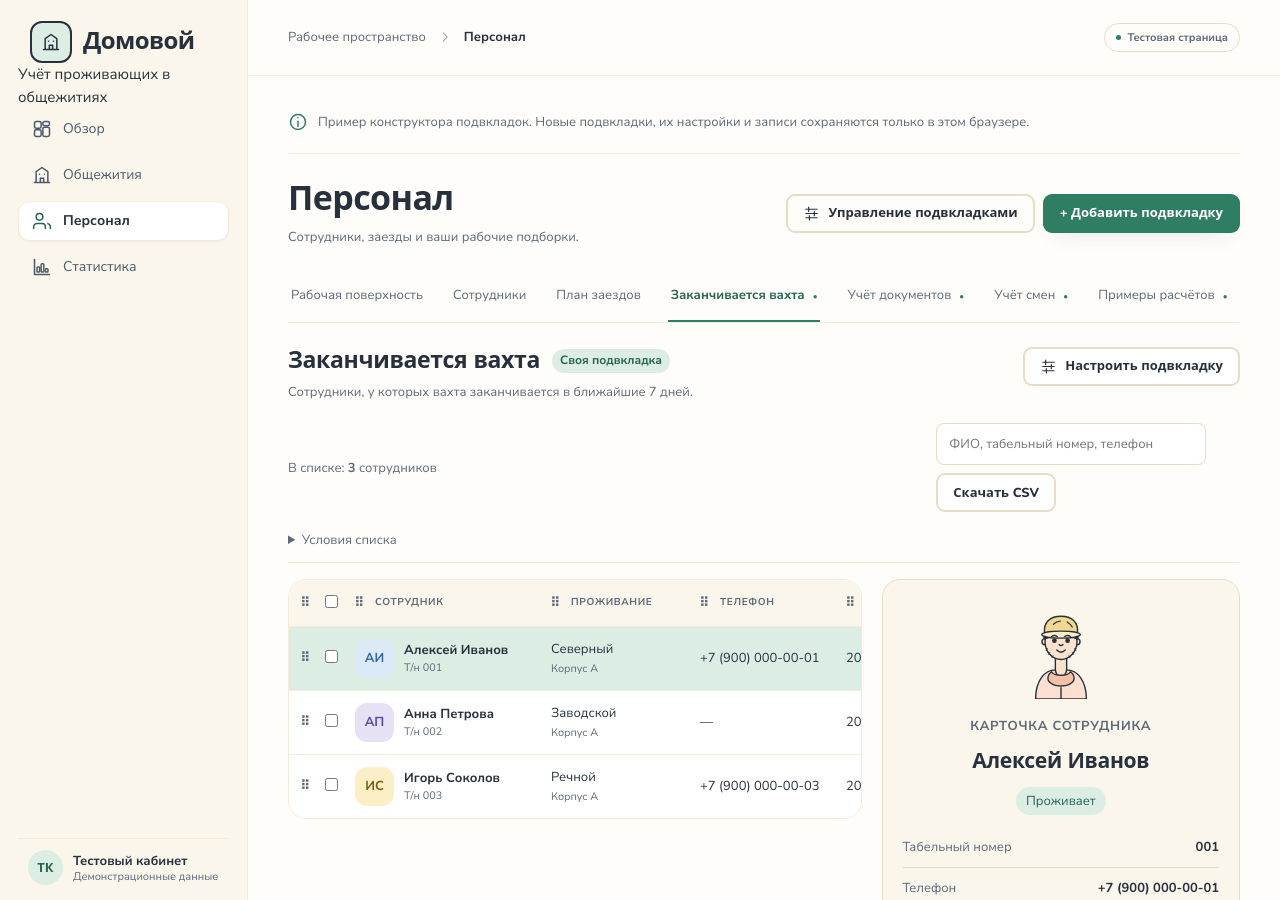
Конструктор подвкладок персонала › не допускает одинаковые имена и сохраняет незакрытый черновик при ошибке
The image size is (1280, 900).
Click the button "+ Добавить подвкладку" at (1141,213), box [1043,194,1240,233]
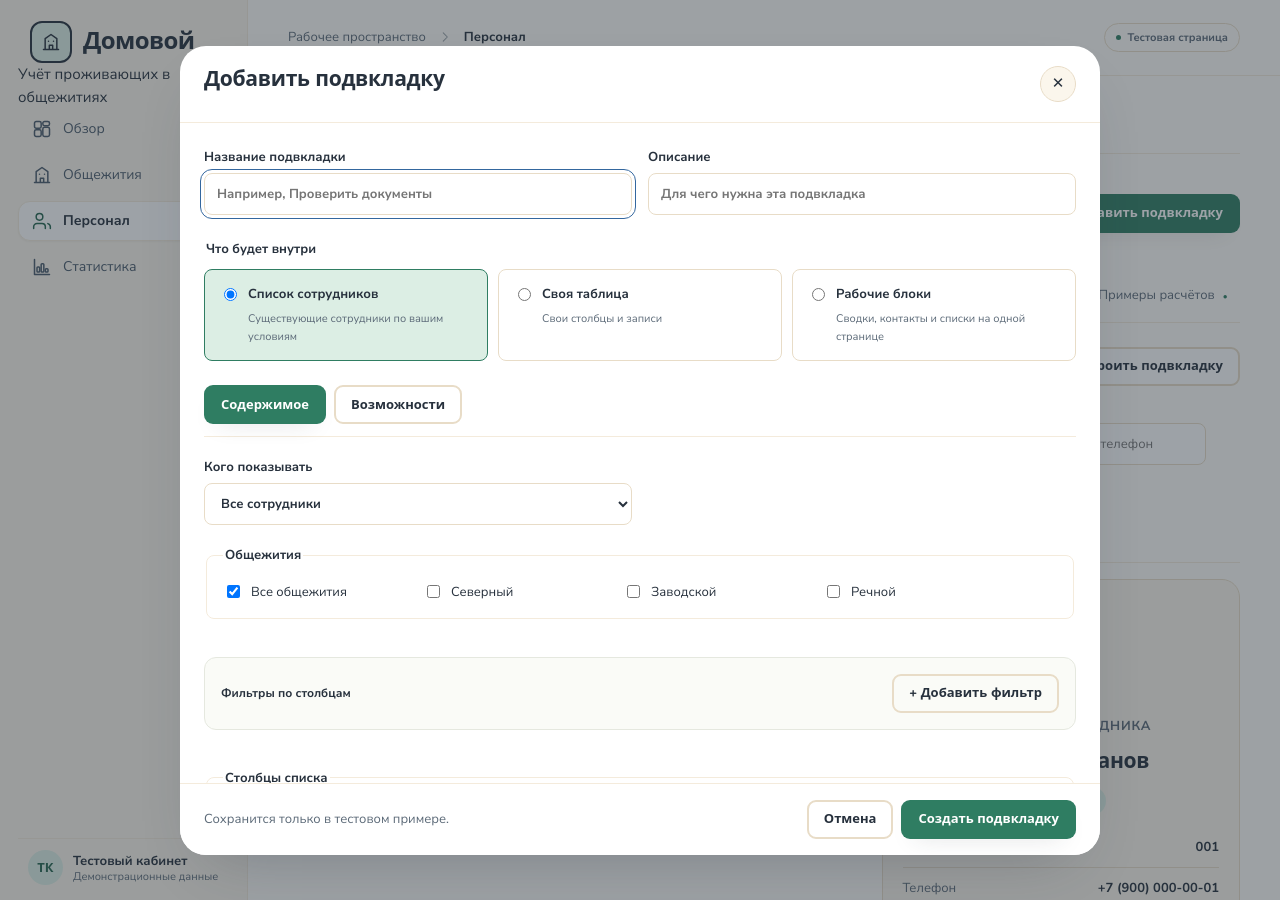
Type "Сотрудники" into the field labelled "Название подвкладки" at (418,194), box [204,173,632,215]
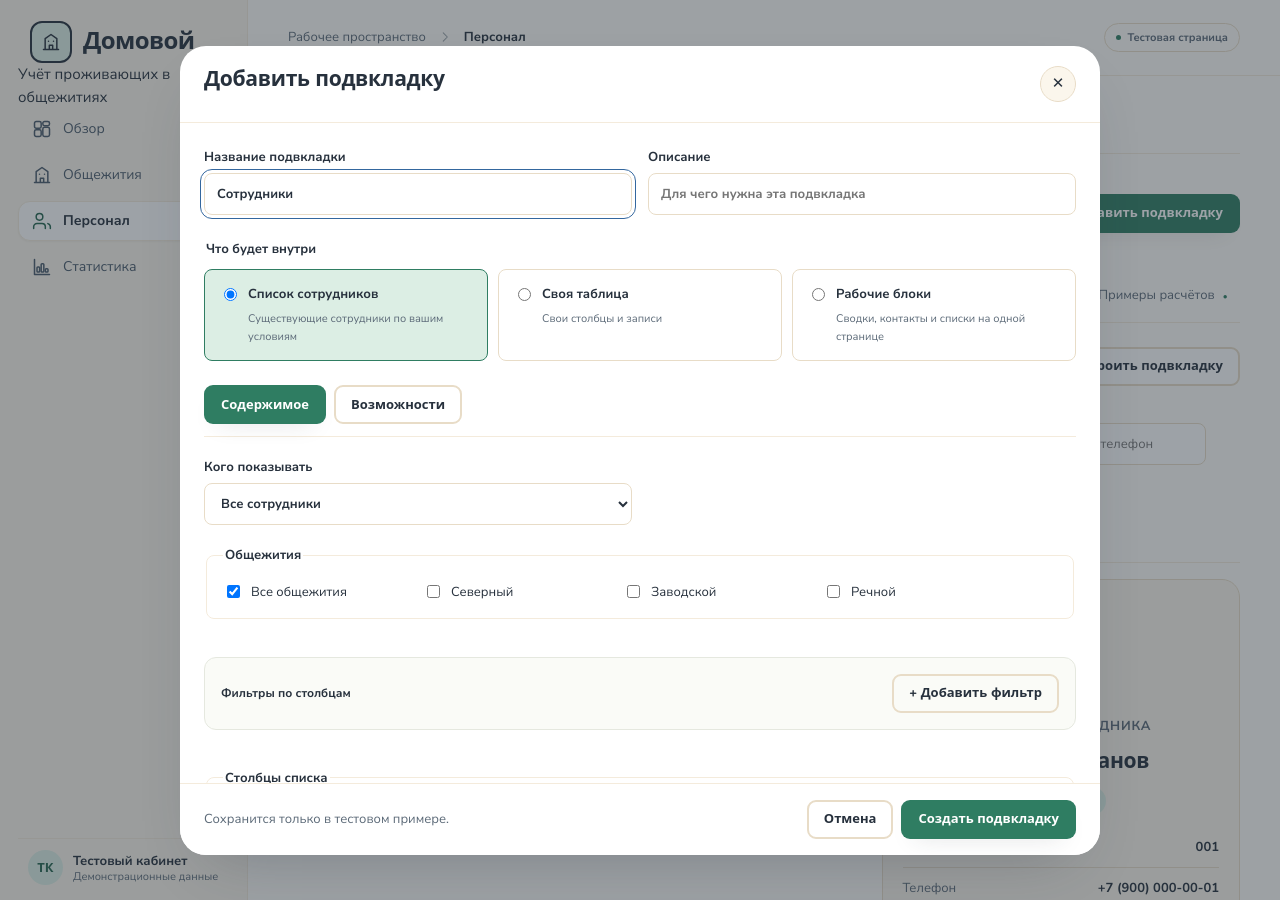
Click the button "Создать подвкладку" at (989,819), box [902,800,1076,838]
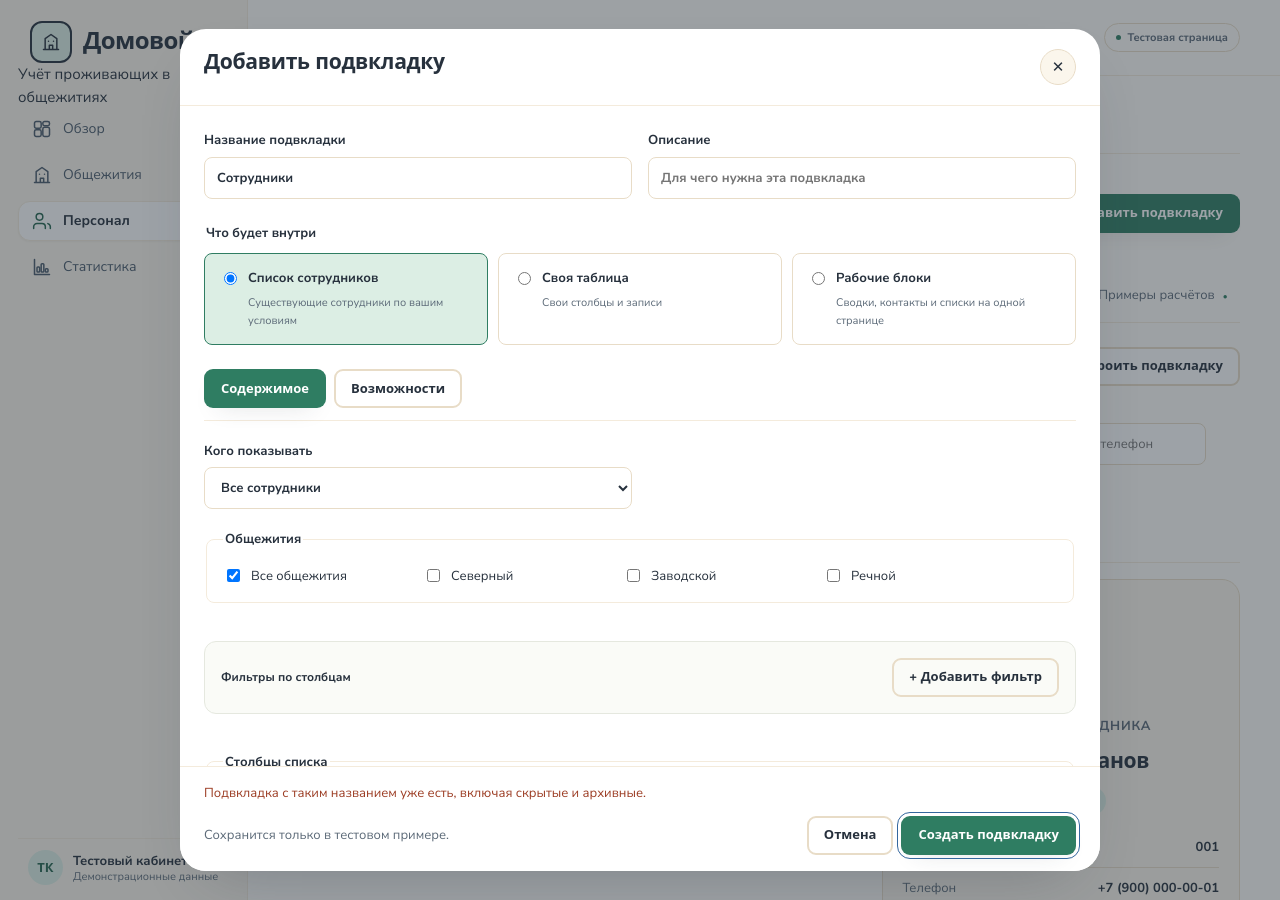
Check: the message shows "уже есть", box [204,784,646,802]
